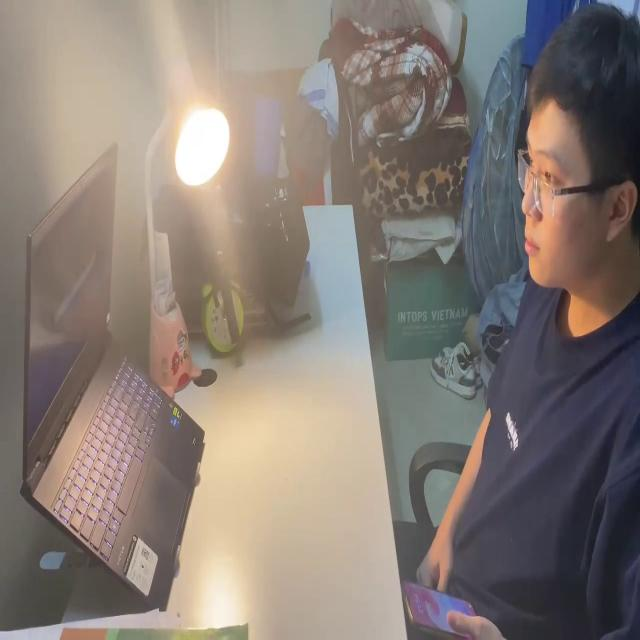book: (0, 608, 249, 640), (396, 570, 482, 640)
laptop: (18, 138, 208, 606)
student: (395, 1, 640, 640)
